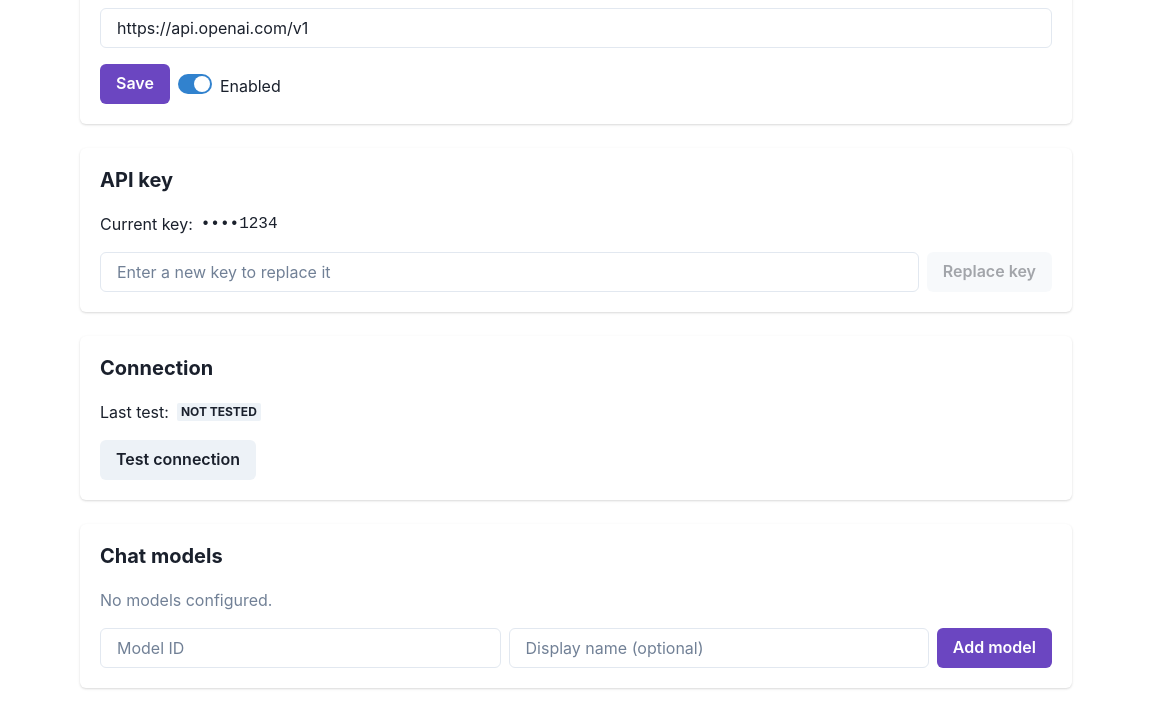
Test: AI providers pages › tests the connection and shows only the typed error
(page scrolled)
Click the button "Test connection". click: {"x": 178, "y": 460}
box: [100,440,256,480]
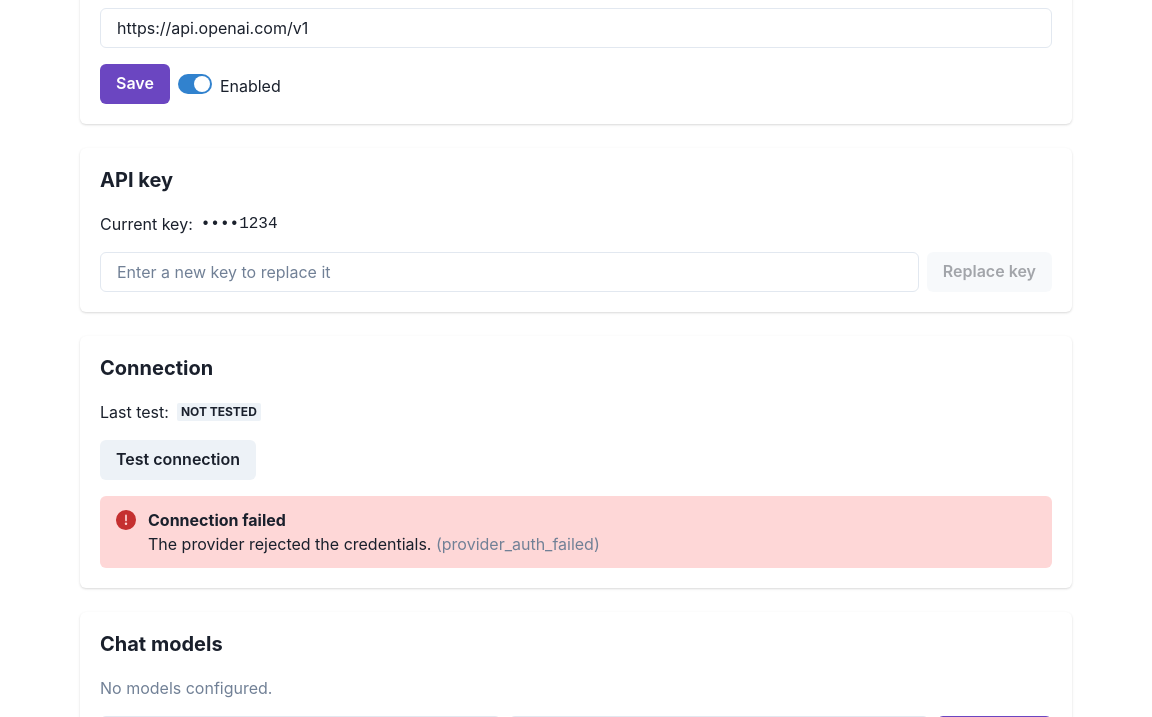
Expected: the text "Connection failed" is shown, [148,510,286,530]
Expected: the text "The provider rejected the credentials" is shown, [148,534,432,554]
Expected: the text "(provider_auth_failed)" is shown, [436,534,600,554]
